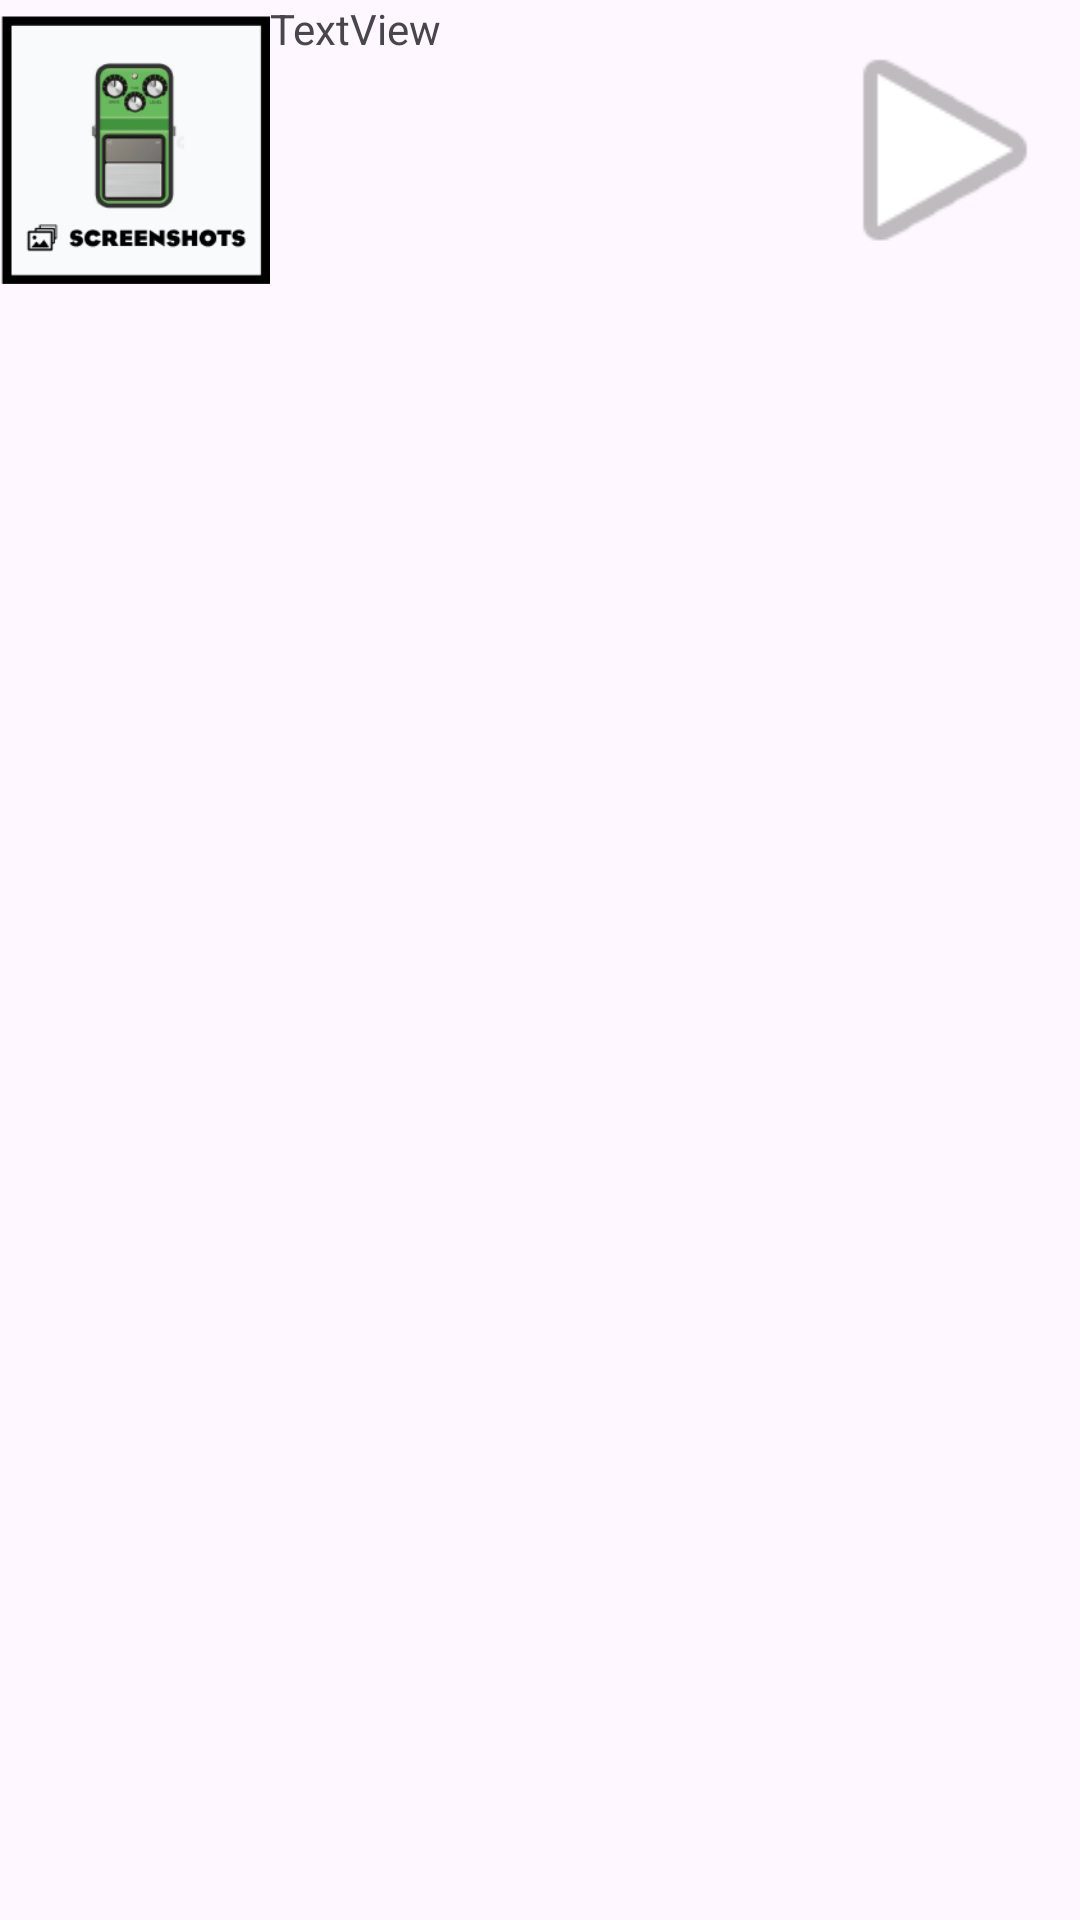

Point at icon controls on the screen. Image size 1080px x 1920px, points as (x,y).
play: (945,150)
